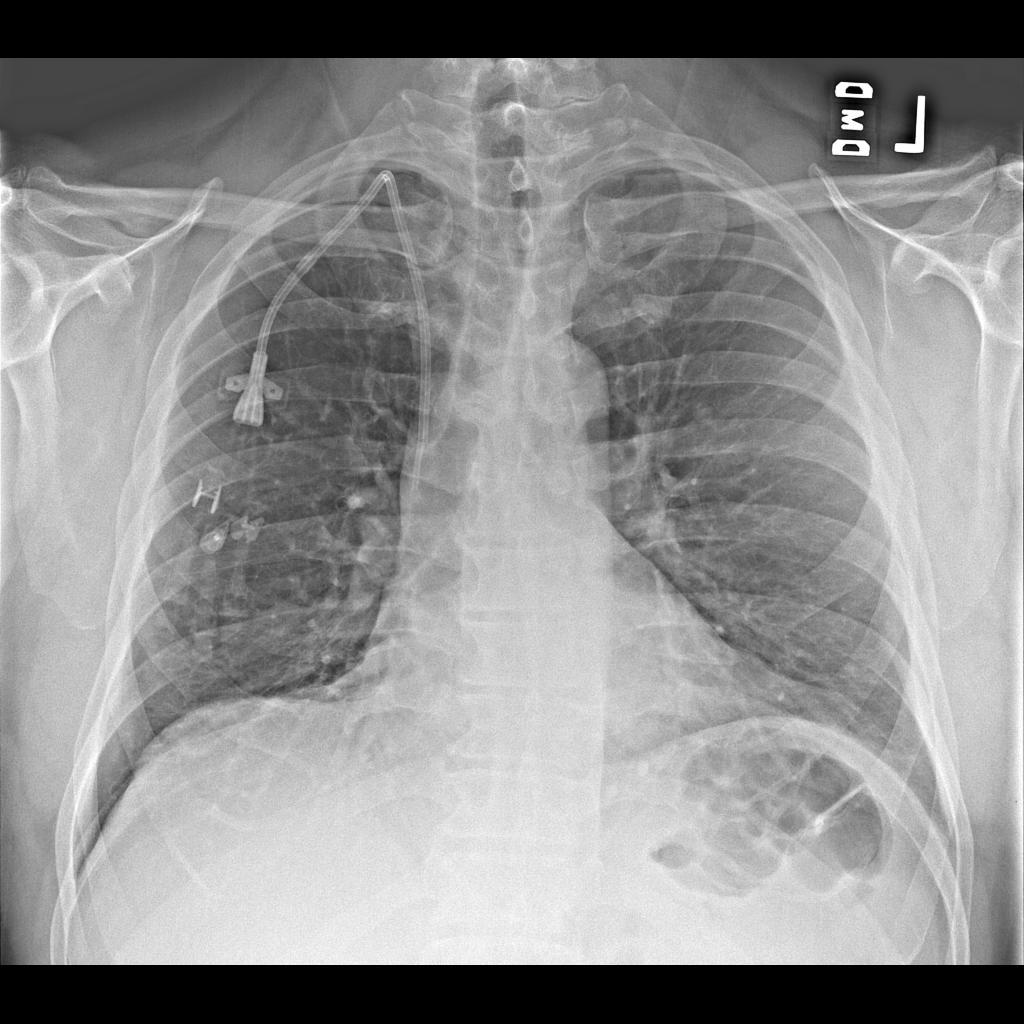Nodule: (630, 291, 679, 329)
